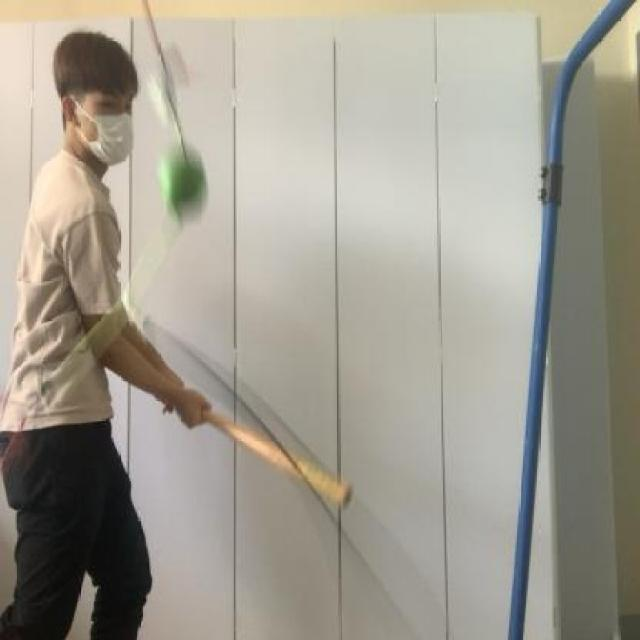baseball: (141, 126, 214, 232)
